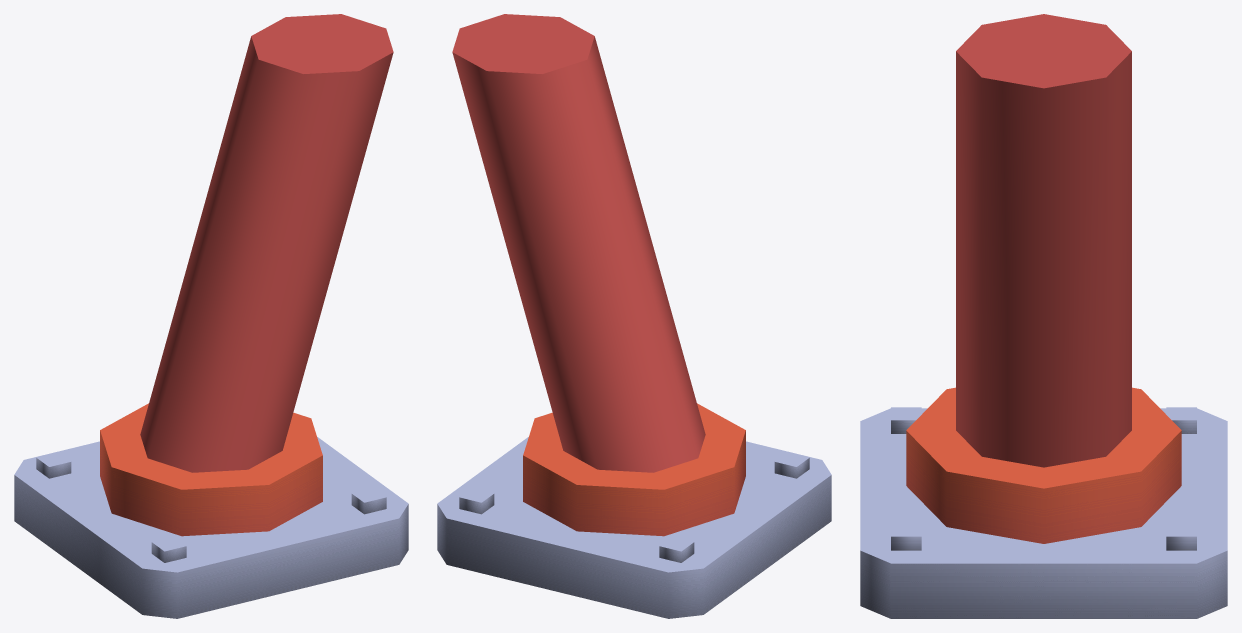
Rendered from support-small-skew-bottom.glb.
3 views of the same model, side by side, from view 1: azimuth 30°, elevation 25°; view 2: azimuth 150°, elevation 25°; view 3: azimuth 270°, elevation 25° (orthographic). The views are drawn at different scales.
Visible parts, largest first — view 1: support-small-skew-bottom; view 2: support-small-skew-bottom; view 3: support-small-skew-bottom.
Boxes of the visible parts, x1,y1,x2,y2 form: support-small-skew-bottom: (14, 14, 408, 618); support-small-skew-bottom: (437, 14, 831, 618); support-small-skew-bottom: (860, 14, 1227, 618).
Size of the model in its own units: 0.6938 by 1 by 0.6.
1 material, 1 textured.
